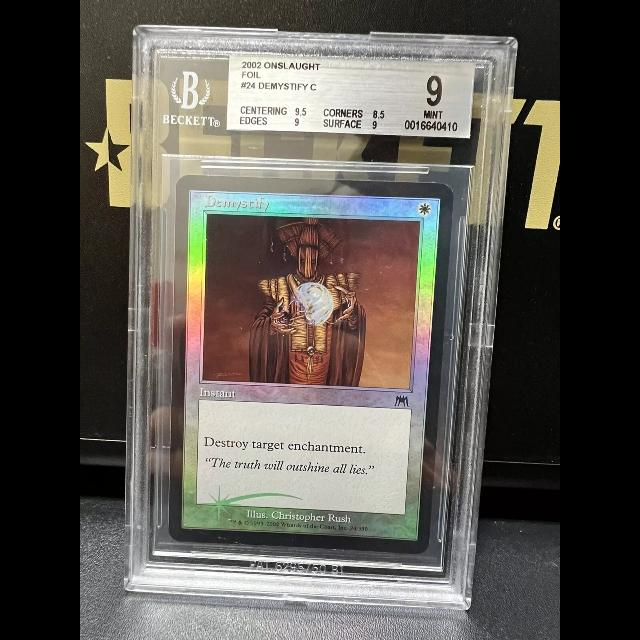bgs_label: (225, 55, 474, 138)
bgs_slab: (123, 23, 519, 611)
card: (167, 173, 456, 553)
